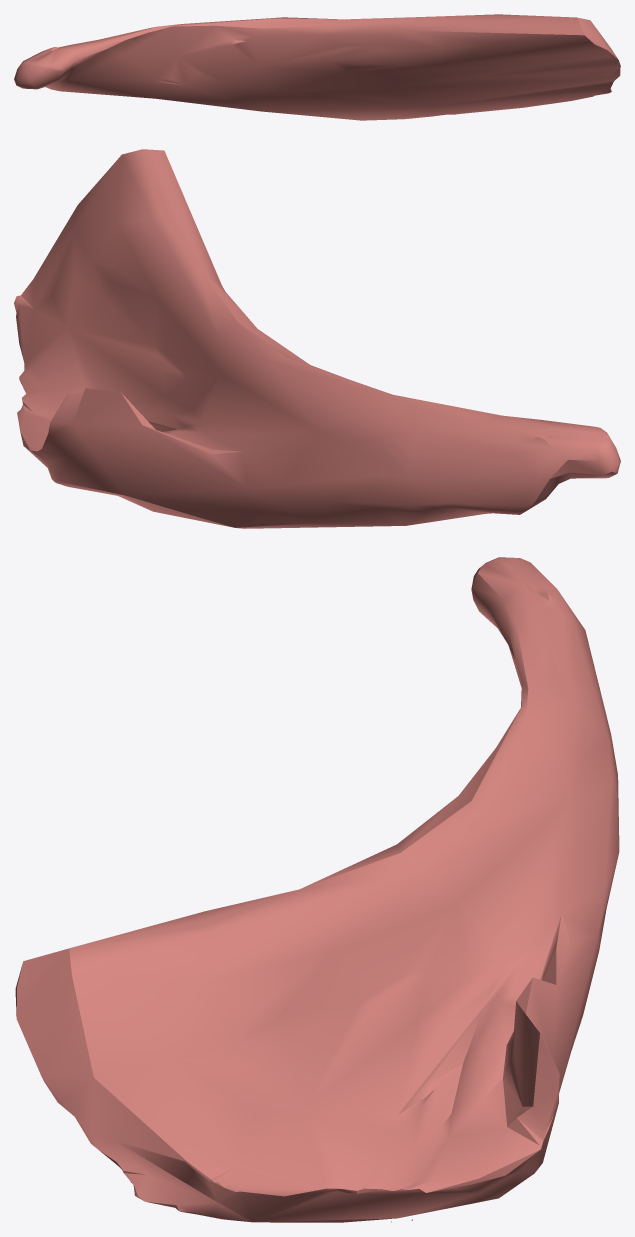
Rendered from fma22326_fj1425.glb.
3 views of the same model, one above another, from view 1: azimuth 30°, elevation 25°; view 2: azimuth 150°, elevation 25°; view 3: azimuth 270°, elevation 25° (orthographic). The views are drawn at different scales.
Visible parts, largest first — view 1: FMA22326_FJ1425; view 2: FMA22326_FJ1425; view 3: FMA22326_FJ1425.
Boxes of the visible parts, x1,y1,x2,y2 form: FMA22326_FJ1425: (14,14,620,120); FMA22326_FJ1425: (14,149,620,528); FMA22326_FJ1425: (15,557,619,1222).
Size of the model in its own units: 0.104 by 0.0292 by 0.054.
